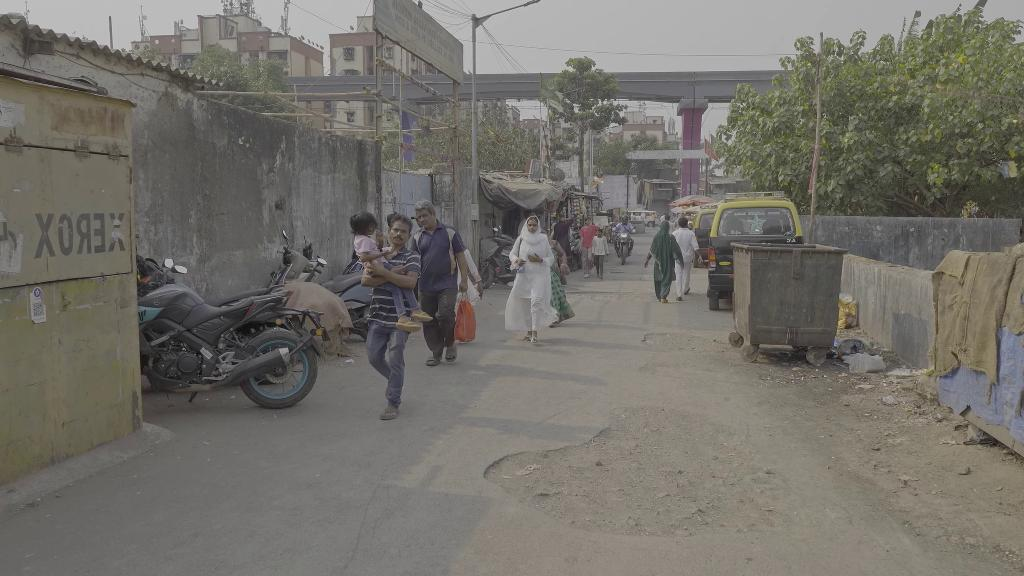dustbin: (725, 239, 849, 362)
